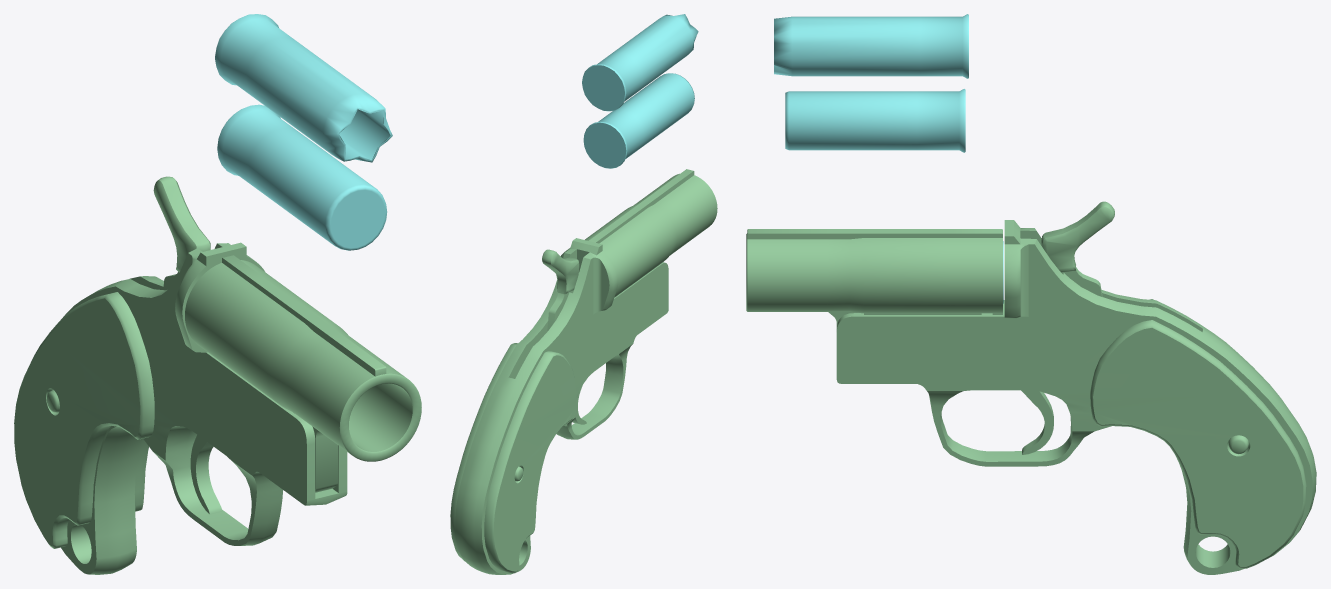
The model's file is WPN_Flaregun.FBX.
3 renders of one model, left to right at view 1: azimuth 30°, elevation 25°; view 2: azimuth 150°, elevation 25°; view 3: azimuth 270°, elevation 25°, orthographic. The views are drawn at different scales.
Visible parts, largest first — view 1: WPN_Flaregun, WPN_Flaregun_barrel, cal_12G_flare_shell, cal_12G_flare, WPN_Flaregun_hammer, WPN_Flaregun_trigger; view 2: WPN_Flaregun, WPN_Flaregun_barrel, cal_12G_flare_shell, cal_12G_flare, WPN_Flaregun_hammer; view 3: WPN_Flaregun, WPN_Flaregun_barrel, cal_12G_flare_shell, cal_12G_flare, WPN_Flaregun_hammer, WPN_Flaregun_trigger.
Boxes of the visible parts, box(x1,y1,x2,y2) form: WPN_Flaregun: box(14, 242, 347, 574); WPN_Flaregun_barrel: box(185, 255, 421, 492); cal_12G_flare_shell: box(215, 14, 392, 162); cal_12G_flare: box(217, 104, 387, 250); WPN_Flaregun_hammer: box(153, 176, 210, 290); WPN_Flaregun_trigger: box(190, 435, 222, 514); WPN_Flaregun: box(450, 238, 668, 574); WPN_Flaregun_barrel: box(585, 169, 717, 297); cal_12G_flare_shell: box(582, 14, 698, 111); cal_12G_flare: box(583, 73, 694, 168); WPN_Flaregun_hammer: box(542, 249, 579, 331); WPN_Flaregun: box(836, 220, 1316, 574); WPN_Flaregun_barrel: box(746, 229, 1002, 325); cal_12G_flare_shell: box(774, 14, 968, 78); cal_12G_flare: box(785, 89, 965, 152); WPN_Flaregun_hammer: box(1041, 201, 1114, 296); WPN_Flaregun_trigger: box(1021, 390, 1053, 454).
Bounding box in the file's own units: 3.29 × 23.67 × 22.11.
